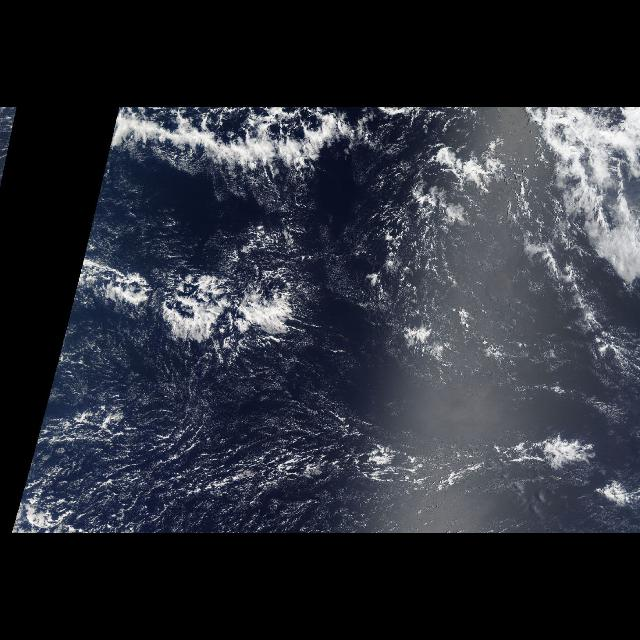Fish: (61, 236, 331, 340)
Sugar: (37, 332, 613, 530)
